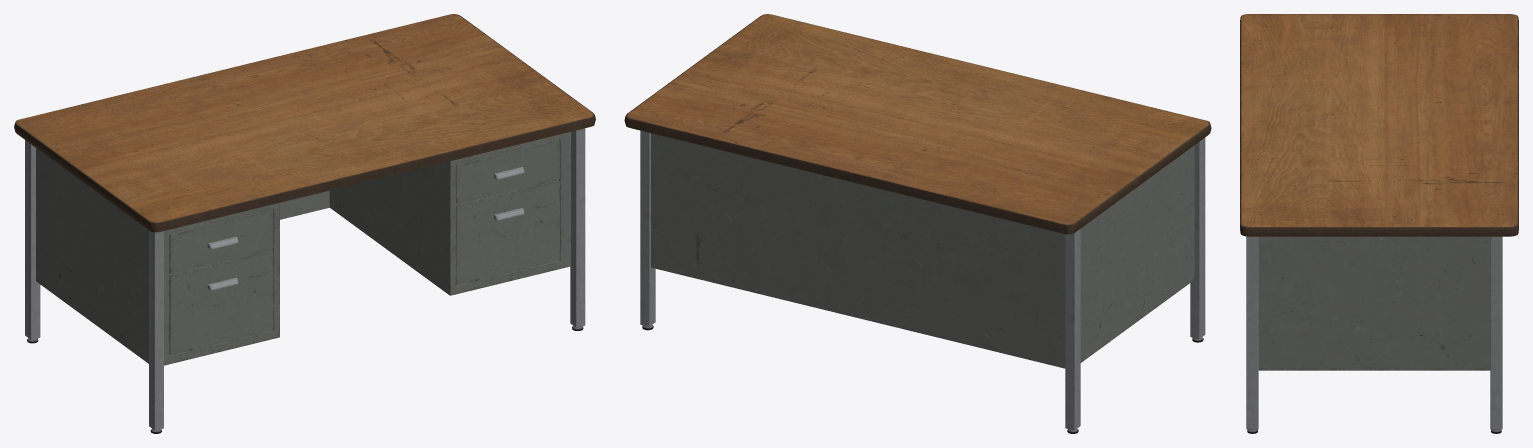
The model's file is SM_Teachers_Desk_01a.fbx.
The picture shows the model from 3 angles, left to right: view 1: azimuth 30°, elevation 25°; view 2: azimuth 150°, elevation 25°; view 3: azimuth 270°, elevation 25°; orthographic projection. The views are drawn at different scales.
Visible parts, largest first — view 1: SM_Teachers_Desk_01a_LOD0; view 2: SM_Teachers_Desk_01a_LOD0; view 3: SM_Teachers_Desk_01a_LOD0.
Boxes of the visible parts, left/top/right/bottom form: SM_Teachers_Desk_01a_LOD0: left=14, top=14, right=595, bottom=433; SM_Teachers_Desk_01a_LOD0: left=624, top=14, right=1211, bottom=433; SM_Teachers_Desk_01a_LOD0: left=1240, top=14, right=1518, bottom=433.
Bounding box in the file's own units: 220 × 121 × 101.
Materials: 1 (1 with a texture image).
